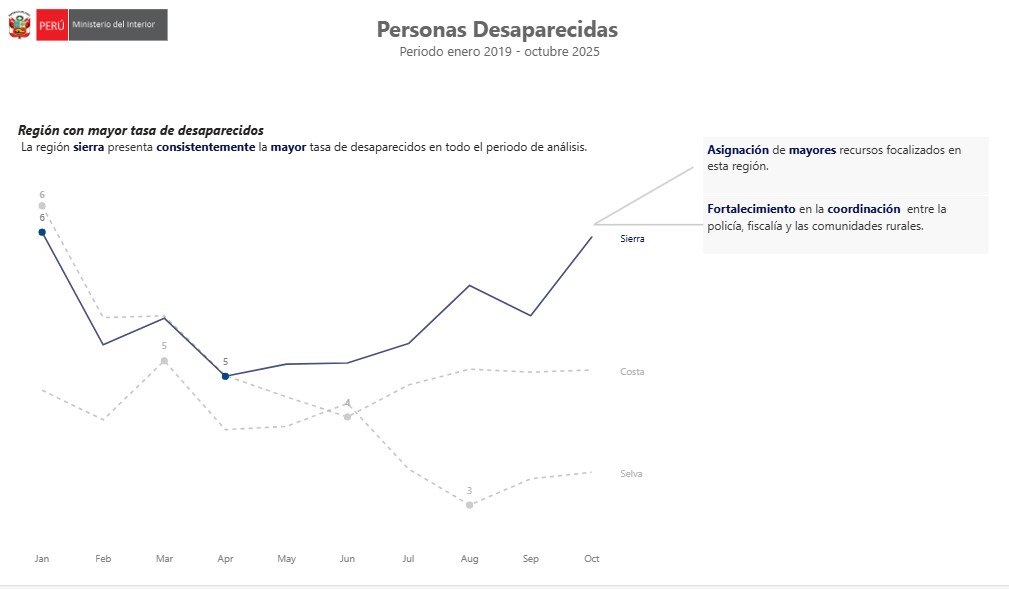

Layout of this report page (visuals, bound fields, positions):
{"tool":"powerbi","page":{"name":"Insight 3","canvas":[1280,720],"ordinal":13},"visuals":[{"type":"textbox","box":[465,11.7,350,80],"z":0},{"type":"image","box":[25,0,211,62],"z":1000},{"type":"textbox","box":[890,168.3,351.7,71.7],"z":2000},{"type":"textbox","box":[41.7,143.3,810,78.3],"z":3000},{"type":"textbox","box":[890,241.4,351.4,71.4],"z":4000},{"type":"shape","box":[755,243.3,135,66.7],"z":5000},{"type":"shape","box":[688.3,205,258.3,71.7],"z":6000},{"type":"lineChart","fields":{"Y":["Medidas.Tasa de desaparecidos 100k_Costa","Medidas.Tasa Costa MinMax","Medidas.Tasa de desaparecidos 100k_Selva","Medidas.Tasa Selva MinMax","Medidas.Tasa de desaparecidos 100k_Sierra","Medidas.Tasa Sierra MinMax"],"Category":["Calendario.NMesCorto"]},"box":[41.7,221.7,781.7,483.3],"z":7000}]}

Visuals, with their boxes on the page's 1280x720 design canvas (x1, y1, x2, y2). These are canvas units, not pixel positions in the 1009x589 screenshot, which may show the page scaled, cropped or inside an application window:
textbox: (465, 12, 815, 92)
image: (25, 0, 236, 62)
textbox: (890, 168, 1242, 240)
textbox: (42, 143, 852, 222)
textbox: (890, 241, 1241, 313)
shape: (755, 243, 890, 310)
shape: (688, 205, 947, 277)
lineChart - Medidas.Tasa de desaparecidos 100k_Costa x Medidas.Tasa Costa MinMax: (42, 222, 823, 705)
